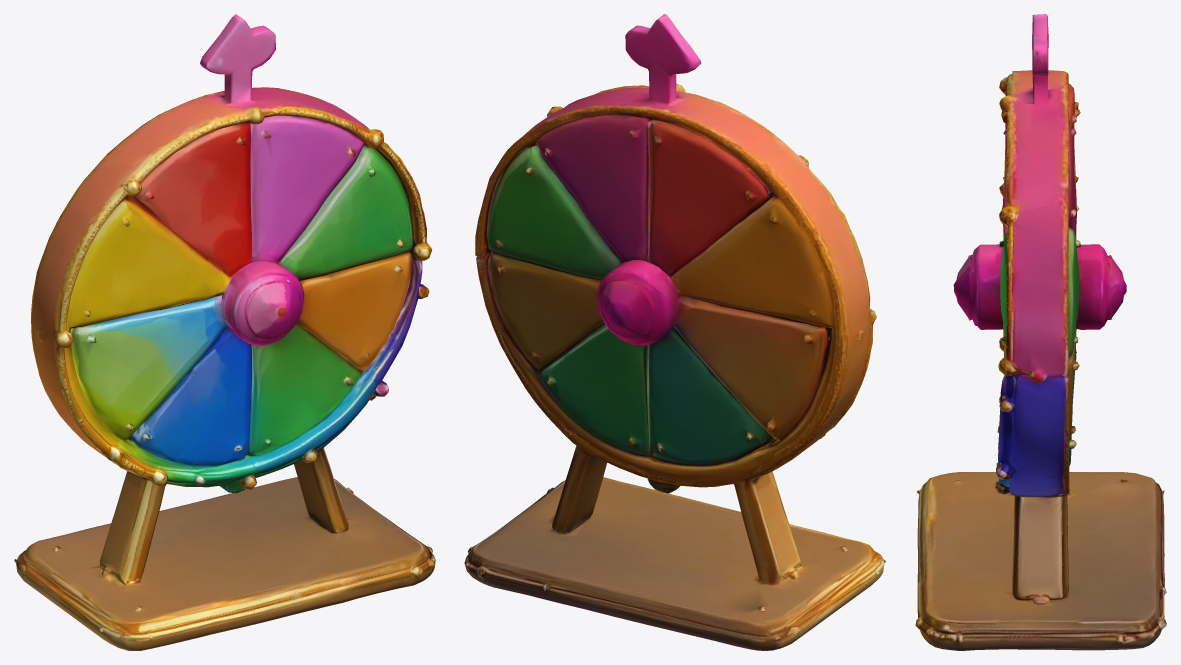
File: prize-wheel.glb
The picture shows the model from 3 angles, left to right: view 1: azimuth 30°, elevation 25°; view 2: azimuth 150°, elevation 25°; view 3: azimuth 270°, elevation 25°; orthographic projection.
Visible parts, largest first — view 1: tripo_node_d6502549-b2fa-40f3-92cd-d7f88eb9e8de; view 2: tripo_node_d6502549-b2fa-40f3-92cd-d7f88eb9e8de; view 3: tripo_node_d6502549-b2fa-40f3-92cd-d7f88eb9e8de.
Boxes of the visible parts, box(x1,y1,x2,y2) form: tripo_node_d6502549-b2fa-40f3-92cd-d7f88eb9e8de: box(14, 14, 435, 650); tripo_node_d6502549-b2fa-40f3-92cd-d7f88eb9e8de: box(464, 14, 886, 650); tripo_node_d6502549-b2fa-40f3-92cd-d7f88eb9e8de: box(915, 14, 1166, 650).
Size of the model in its own units: 0.7058 by 1 by 0.3987.
1 material, 1 textured.
